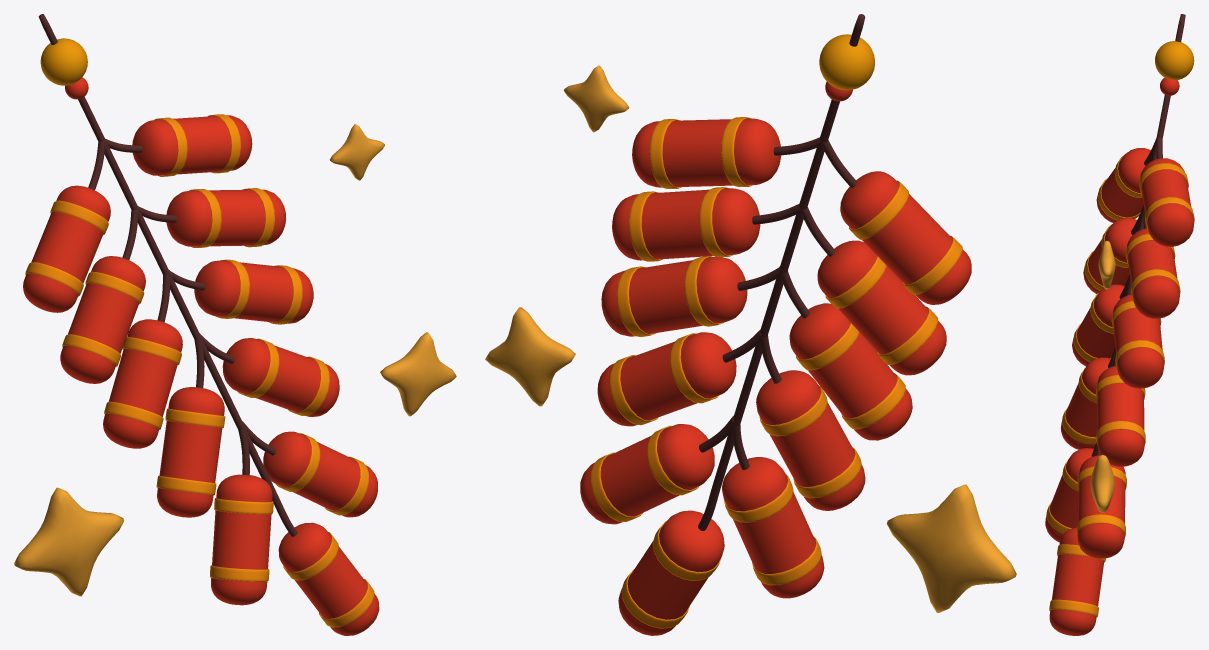
File: Phao hoa 1 day.glb
3 views of the same model, side by side, from view 1: azimuth 30°, elevation 25°; view 2: azimuth 150°, elevation 25°; view 3: azimuth 270°, elevation 25° (orthographic). The views are drawn at different scales.
Visible parts, largest first — view 1: Cylinder.005, Cylinder.004, Plane.023, Plane.025, Sphere.002, Plane.024; view 2: Cylinder.005, Cylinder.004, Plane.023, Plane.025, Sphere.002, Plane.024; view 3: Cylinder.005, Cylinder.004, Sphere.002, Plane.025, Plane.024, Sphere.003.
Boxes of the visible parts, x1=… form: Cylinder.005: x1=23, y1=114, x2=377, y2=605; Cylinder.004: x1=38, y1=14, x2=379, y2=635; Plane.023: x1=14, y1=487, x2=123, y2=596; Plane.025: x1=380, y1=332, x2=456, y2=416; Sphere.002: x1=40, y1=38, x2=87, y2=85; Plane.024: x1=329, y1=124, x2=384, y2=180; Cylinder.005: x1=580, y1=117, x2=971, y2=598; Cylinder.004: x1=618, y1=14, x2=865, y2=635; Plane.023: x1=886, y1=484, x2=1016, y2=612; Plane.025: x1=485, y1=307, x2=575, y2=406; Sphere.002: x1=819, y1=34, x2=874, y2=90; Plane.024: x1=563, y1=65, x2=629, y2=132; Cylinder.005: x1=1045, y1=138, x2=1194, y2=558; Cylinder.004: x1=1049, y1=14, x2=1185, y2=635; Sphere.002: x1=1155, y1=41, x2=1194, y2=79; Plane.025: x1=1090, y1=455, x2=1114, y2=512; Plane.024: x1=1098, y1=241, x2=1115, y2=289; Sphere.003: x1=1160, y1=77, x2=1179, y2=95.
Size of the model in its own units: 4.99 by 6.74 by 1.74.
